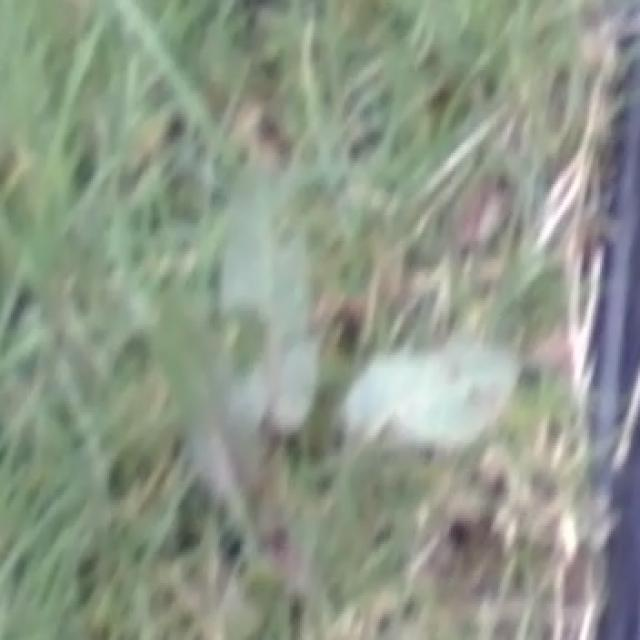organic waste: (112, 156, 557, 562)
